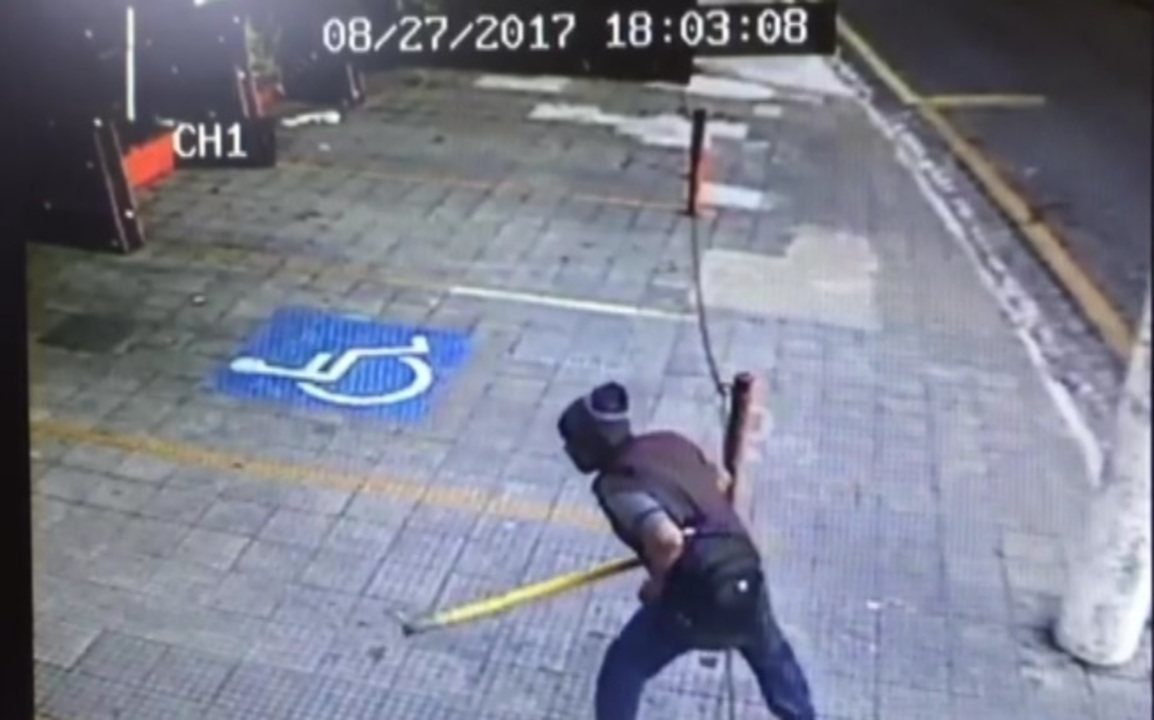Humano: (535, 380, 872, 720)
